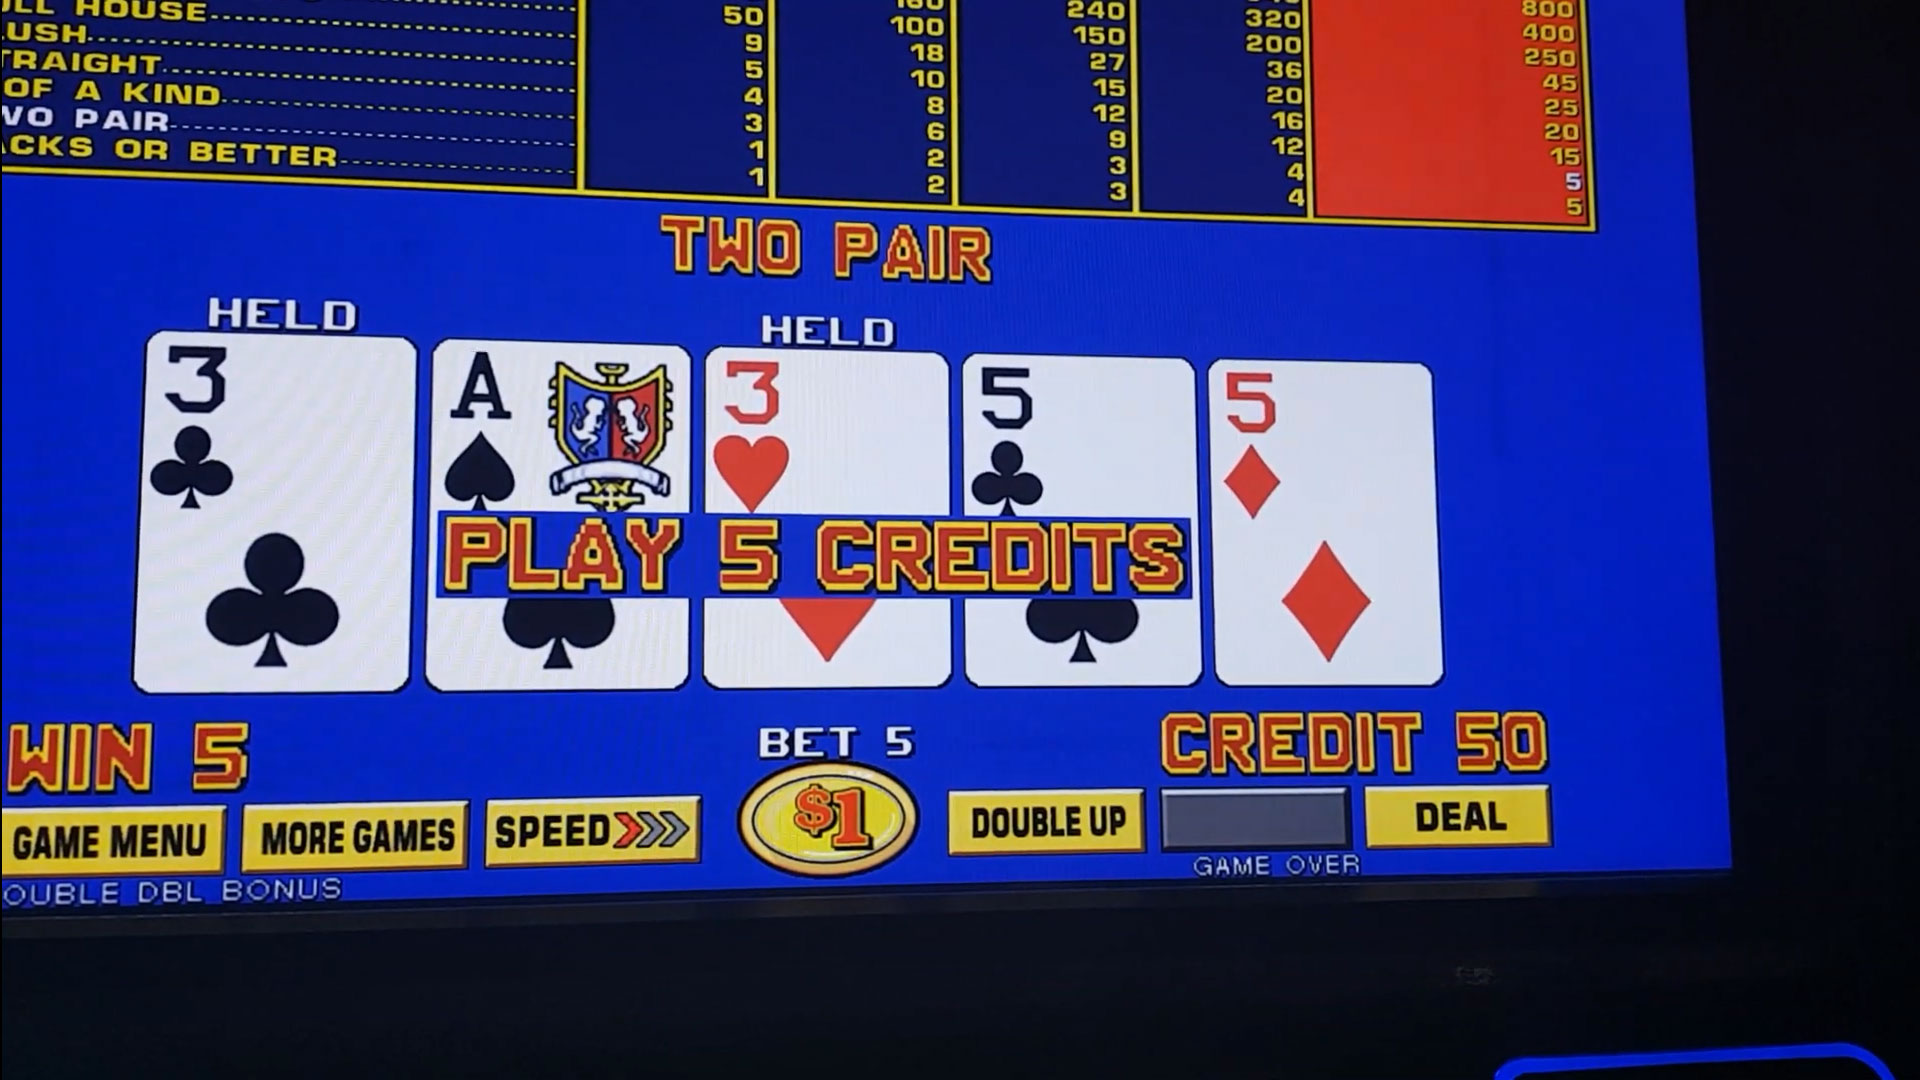C3: (152, 345, 409, 522)
C5: (967, 363, 1191, 512)
D5: (1215, 369, 1427, 530)
H3: (711, 357, 943, 509)
SA: (438, 347, 683, 506)
